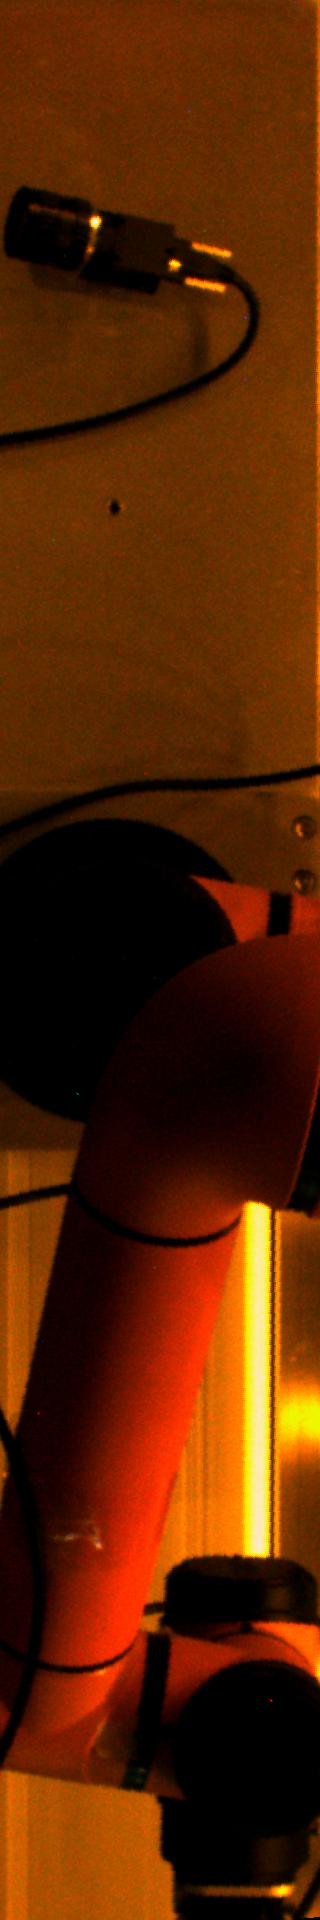keyPoint_2: (99, 493, 129, 524)
